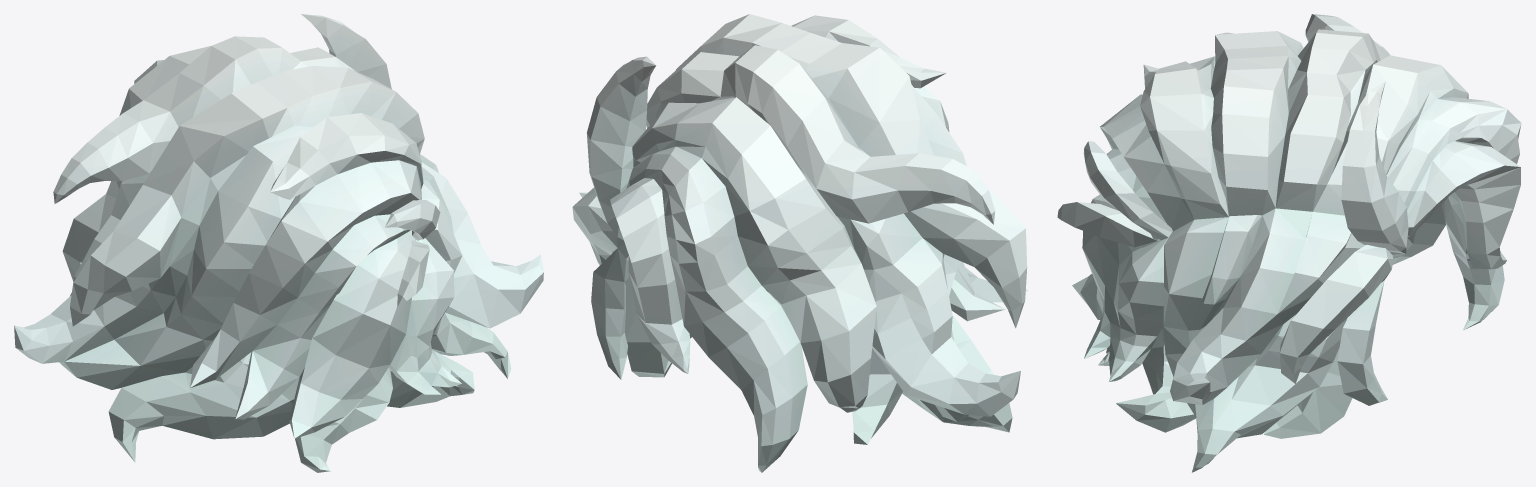
The model's file is CharSkyKid_Hair_AP17Genius.glb.
3 renders of one model, left to right at view 1: azimuth 30°, elevation 25°; view 2: azimuth 150°, elevation 25°; view 3: azimuth 270°, elevation 25°, orthographic. The views are drawn at different scales.
Visible parts, largest first — view 1: CharSkyKid_Hair_AP17Genius; view 2: CharSkyKid_Hair_AP17Genius; view 3: CharSkyKid_Hair_AP17Genius.
Part boxes in pixels (x1,y1,x2,y2): CharSkyKid_Hair_AP17Genius: [14, 14, 543, 472]; CharSkyKid_Hair_AP17Genius: [572, 14, 1027, 472]; CharSkyKid_Hair_AP17Genius: [1057, 14, 1521, 472].
Size of the model in its own units: 4.58 by 3.21 by 3.83.
Materials: 1 (1 with a texture image).
